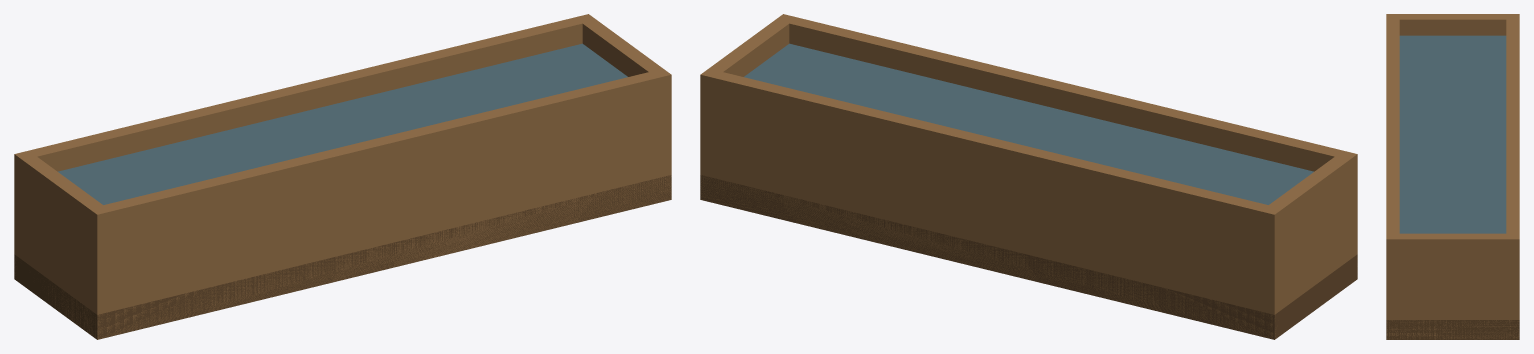
File: pv_pastvina_koryto.glb
The picture shows the model from 3 angles, left to right: view 1: azimuth 30°, elevation 25°; view 2: azimuth 150°, elevation 25°; view 3: azimuth 270°, elevation 25°; orthographic projection. The views are drawn at different scales.
Parts seen in each view (by area): view 1: pv_pastvina_koryto; view 2: pv_pastvina_koryto; view 3: pv_pastvina_koryto.
Boxes of the visible parts, x1,y1,x2,y2 form: pv_pastvina_koryto: (14,14,671,339); pv_pastvina_koryto: (700,14,1357,339); pv_pastvina_koryto: (1386,14,1519,339).
Bounding box in the file's own units: 2.4 × 0.5 × 0.6.
Materials: 1 (1 with a texture image).
